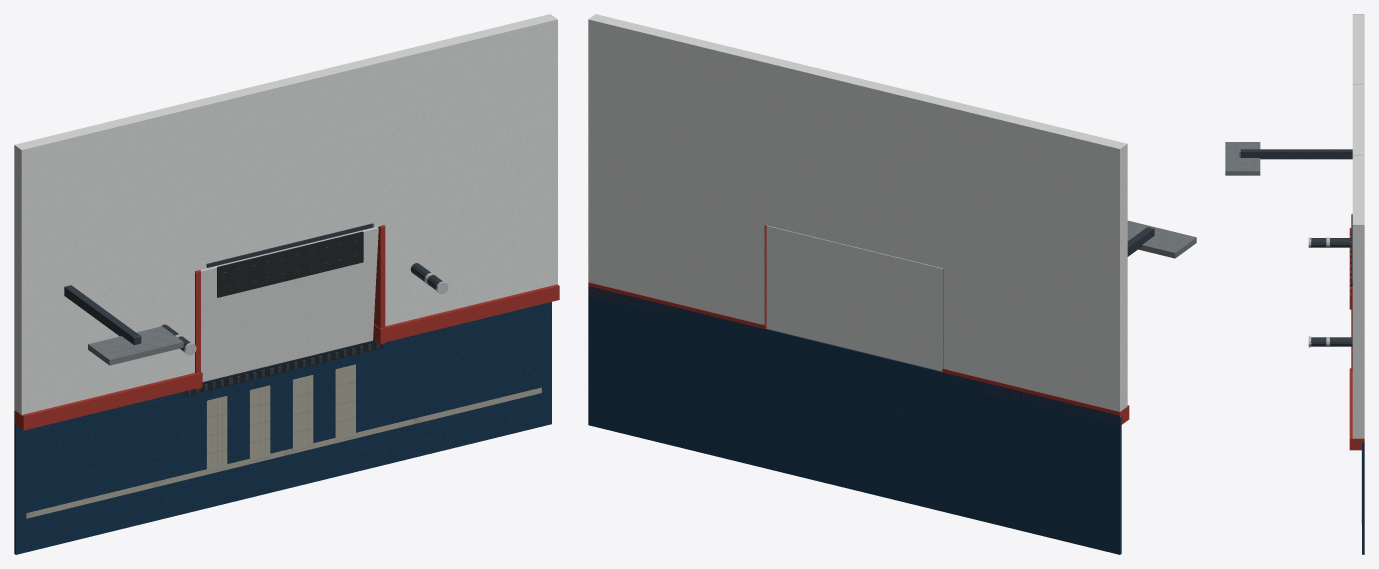
File: MOD_05_CurbsideAccessApron_10m.glb
3 renders of one model, left to right at view 1: azimuth 30°, elevation 25°; view 2: azimuth 150°, elevation 25°; view 3: azimuth 270°, elevation 25°, orthographic. The views are drawn at different scales.
Parts seen in each view (by area): view 1: REN_Curb_Sidewalk_LeftRight, REN_Curb_AsphaltRoad, REN_Curb_Sidewalk_UpperContinuous, REN_Curb_AccessibleRamp, REN_Curb_PedestrianCrossingMarks, REN_Curb_ConcreteCurbStones, REN_Curb_TactileWarningPad, REN_Curb_RoadWhiteLaneMark, REN_Curb_WayfindingBoard, REN_Curb_RampSideCurb, REN_Curb_ChannelDrain, REN_Curb_WayfindingPole (+2 smaller); view 2: REN_Curb_Sidewalk_LeftRight, REN_Curb_AsphaltRoad, REN_Curb_Sidewalk_UpperContinuous, REN_Curb_AccessibleRamp, REN_Curb_ConcreteCurbStones, REN_Curb_WayfindingBoard; view 3: REN_Curb_Sidewalk_LeftRight, REN_Curb_WayfindingPole, REN_Curb_WayfindingBoard, REN_Curb_Sidewalk_UpperContinuous, REN_Curb_BollardColumns, REN_Curb_ConcreteCurbStones, REN_Curb_AsphaltRoad.
Part boxes in pixels (<box>): REN_Curb_Sidewalk_LeftRight: <box>14,14,557,414</box>; REN_Curb_AsphaltRoad: <box>14,302,551,554</box>; REN_Curb_Sidewalk_UpperContinuous: <box>192,57,379,270</box>; REN_Curb_AccessibleRamp: <box>201,227,378,381</box>; REN_Curb_PedestrianCrossingMarks: <box>206,364,355,472</box>; REN_Curb_ConcreteCurbStones: <box>14,284,559,430</box>; REN_Curb_TactileWarningPad: <box>217,231,363,297</box>; REN_Curb_RoadWhiteLaneMark: <box>26,387,541,518</box>; REN_Curb_WayfindingBoard: <box>88,326,183,365</box>; REN_Curb_RampSideCurb: <box>195,225,385,389</box>; REN_Curb_ChannelDrain: <box>184,341,383,396</box>; REN_Curb_WayfindingPole: <box>64,285,141,345</box>; REN_Curb_Sidewalk_LeftRight: <box>588,14,1127,411</box>; REN_Curb_AsphaltRoad: <box>588,286,1121,554</box>; REN_Curb_Sidewalk_UpperContinuous: <box>764,57,950,268</box>; REN_Curb_AccessibleRamp: <box>766,225,943,371</box>; REN_Curb_ConcreteCurbStones: <box>588,282,1129,424</box>; REN_Curb_WayfindingBoard: <box>1127,220,1196,258</box>; REN_Curb_Sidewalk_LeftRight: <box>1352,14,1364,438</box>; REN_Curb_WayfindingPole: <box>1239,149,1352,159</box>; REN_Curb_WayfindingBoard: <box>1225,142,1260,175</box>; REN_Curb_Sidewalk_UpperContinuous: <box>1352,84,1364,154</box>; REN_Curb_BollardColumns: <box>1311,238,1352,346</box>; REN_Curb_ConcreteCurbStones: <box>1349,228,1364,450</box>; REN_Curb_AsphaltRoad: <box>1362,442,1364,554</box>.
Size of the model in its own units: 10 by 7.29 by 2.79.
2 materials, 2 textured.
